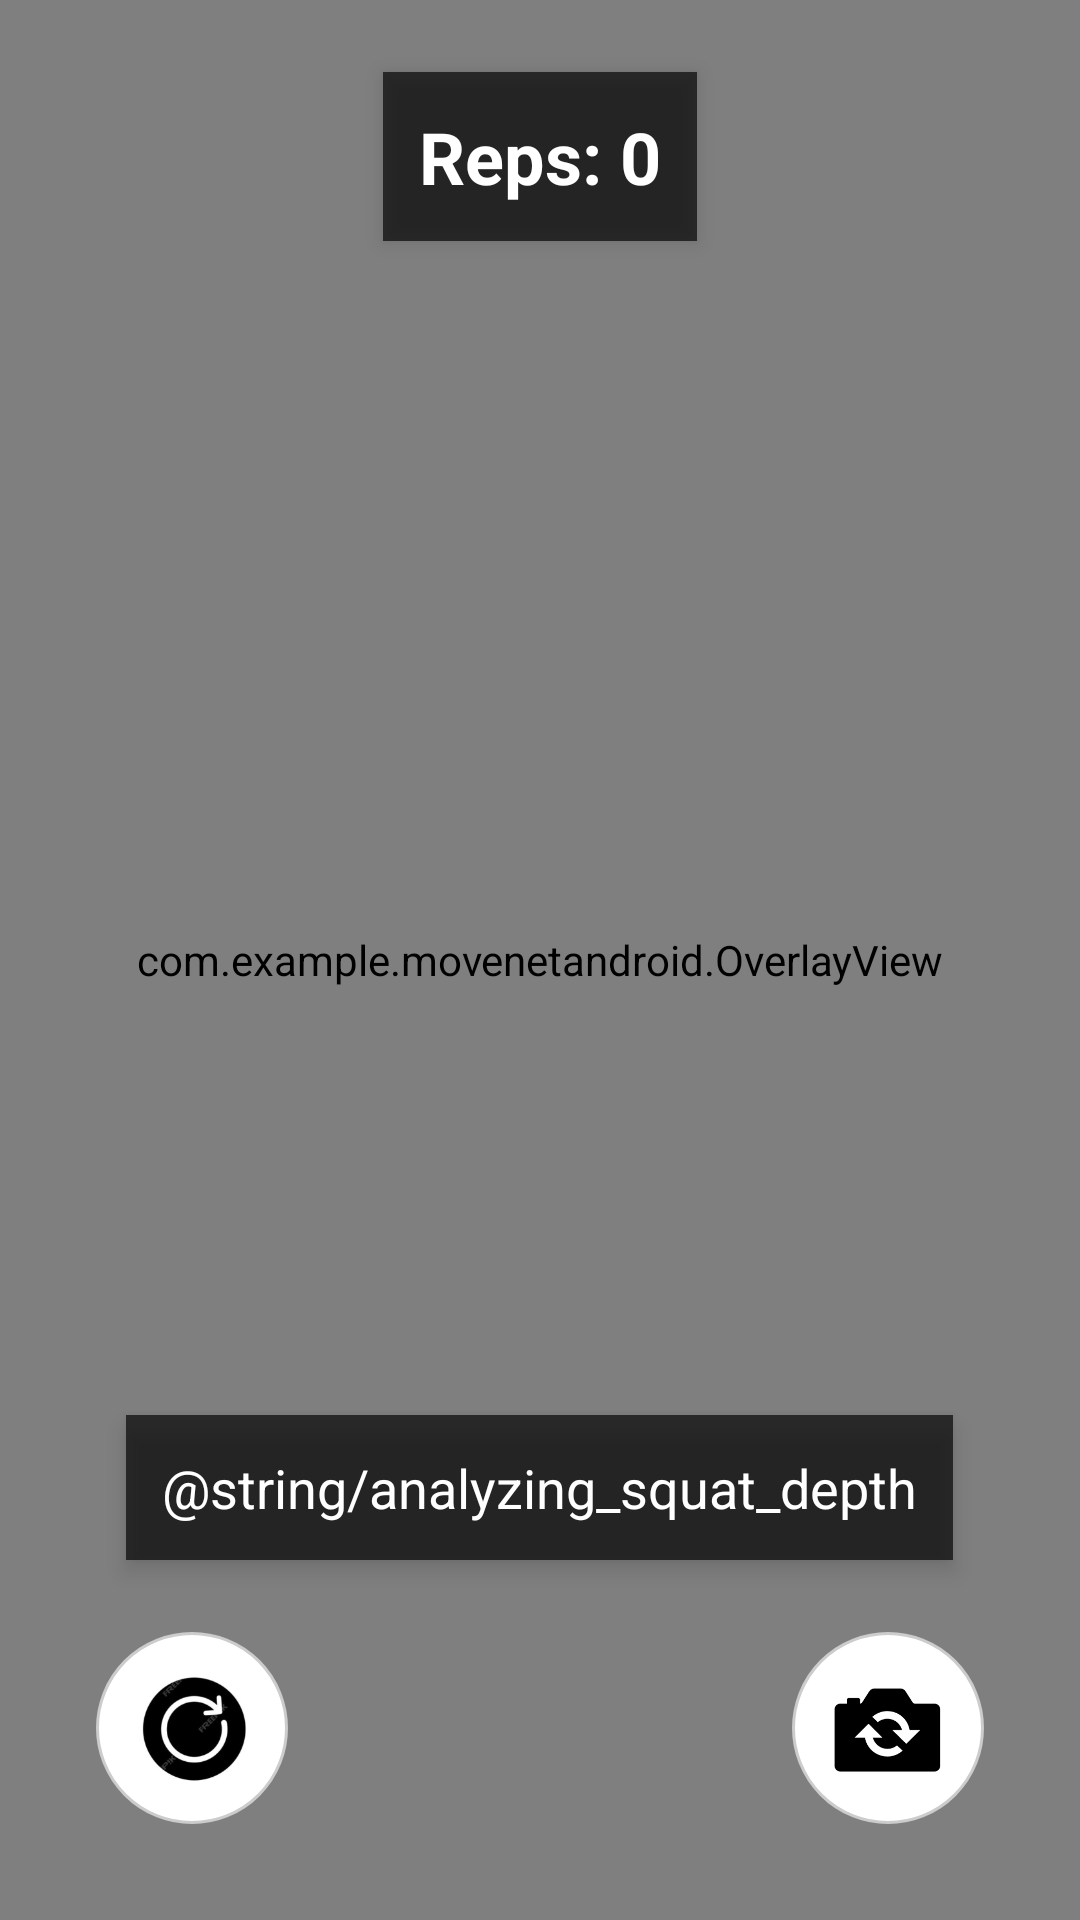

Screen size 1080px×1920px. Icon name, then its center in pixels as point (x, y):
Flip Camera: point (888, 1728)
Reset Counter: point (192, 1728)
